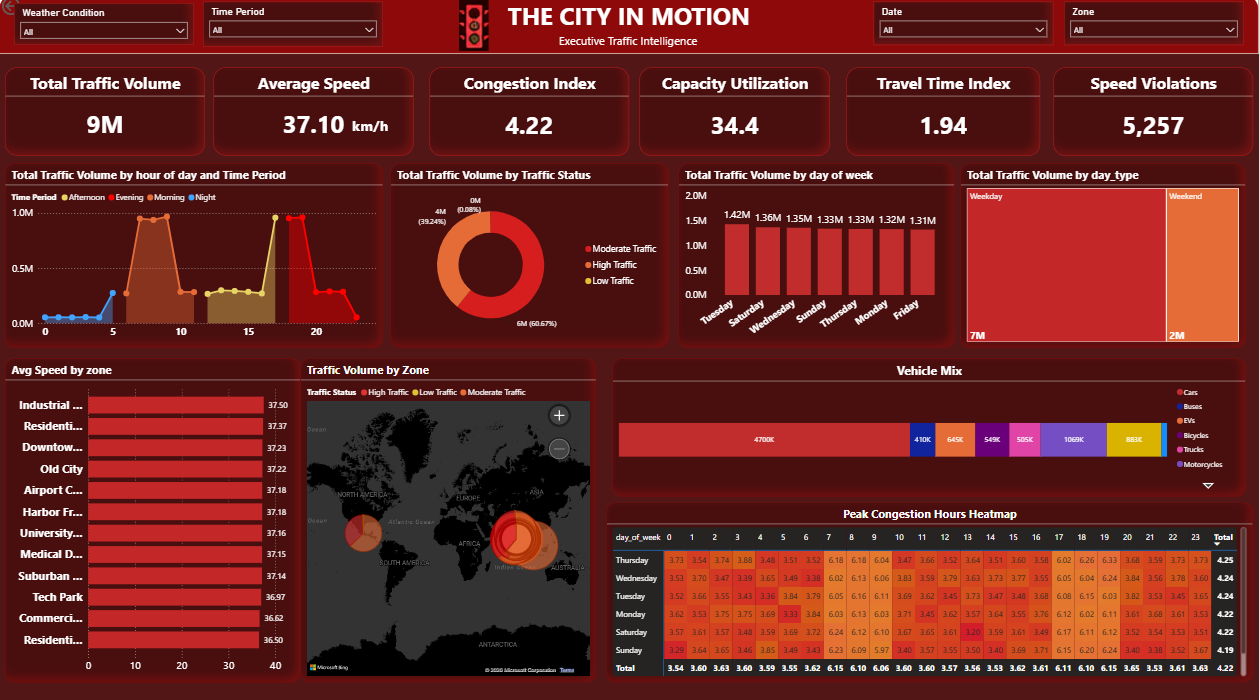

What the dashboard file says about the page in this screenshot:
{"tool":"powerbi","page":{"name":" City In Motion","canvas":[2100,1180],"ordinal":0},"visuals":[{"type":"card","title":"Total Traffic Volume","fields":{"Values":["smart_city_traffic_final.Total Traffic Volume"]},"box":[10,123.3,333.3,146.7],"z":0},{"type":"lineChart","title":"Total Traffic Volume by hour of day and Time Period","fields":{"Category":["smart_city_traffic_final.hour_of_day"],"Series":["smart_city_traffic_final.Time Period"],"Y":["smart_city_traffic_final.Total Traffic Volume"]},"box":[10,282.5,630,307.5],"z":1000},{"type":"donutChart","fields":{"Category":["smart_city_traffic_final.Traffic Status"],"Y":["smart_city_traffic_final.Total Traffic Volume"]},"box":[653.3,283.3,463.3,306.7],"z":2000},{"type":"shape","box":[0,0,2100,100],"z":3000},{"type":"map","title":"Traffic Volume by Zone","fields":{"Series":["smart_city_traffic_final.Traffic Status"],"Size":["smart_city_traffic_final.Total Traffic Volume"],"Category":["smart_city_traffic_final.area_name"]},"box":[502.5,607.5,492.5,540],"z":4000},{"type":"actionButton","box":[0,0,100,40],"z":5000},{"type":"clusteredColumnChart","title":"Total Traffic Volume by day of week","fields":{"Category":["smart_city_traffic_final.day_of_week"],"Y":["smart_city_traffic_final.Total Traffic Volume"]},"box":[1132.5,282.5,460,307.5],"z":6000},{"type":"pivotTable","title":"Peak Congestion Hours Heatmap ","fields":{"Columns":["smart_city_traffic_final.hour_of_day"],"Values":["smart_city_traffic_final.Congestion Index"],"Rows":["smart_city_traffic_final.day_of_week"]},"box":[1012.5,847.5,1077.5,300],"z":7000},{"type":"treemap","fields":{"Group":["smart_city_traffic_final.day_type"],"Values":["smart_city_traffic_final.Total Traffic Volume"]},"box":[1602.5,282.5,475,307.5],"z":8000},{"type":"clusteredBarChart","fields":{"Y":["smart_city_traffic_final.Avg Speed"],"Category":["smart_city_traffic_final.zone"]},"box":[10,607.5,492.5,540],"z":9000},{"type":"barChart","title":"Vehicle Mix","fields":{"Y":["smart_city_traffic_final.Cars","smart_city_traffic_final.Buses","smart_city_traffic_final.EV Count","smart_city_traffic_final.Bicycles","smart_city_traffic_final.Trucks","smart_city_traffic_final.Motorcycles","smart_city_traffic_final.Auto Rickshaws","smart_city_traffic_final.Ambulance"]},"box":[1022.5,607.5,1055,230],"z":10000},{"type":"card","title":"Congestion Index","fields":{"Values":["smart_city_traffic_final.Congestion Index"]},"box":[717.5,122.5,332.5,147.5],"z":11000},{"type":"card","title":"Capacity Utilization","fields":{"Values":["smart_city_traffic_final.Capacity Utilization"]},"box":[1067.5,122.5,317.5,147.5],"z":12000},{"type":"card","title":"Travel Time  Index","fields":{"Values":["smart_city_traffic_final.Travel Time Index"]},"box":[1412.5,122.5,322.5,147.5],"z":13000},{"type":"card","title":"Speed Violations","fields":{"Values":["smart_city_traffic_final.Speed Violations"]},"box":[1757.5,122.5,332.5,147.5],"z":14000},{"type":"card","title":"Average Speed","fields":{"Values":["smart_city_traffic_final.Avg Speed"]},"box":[356.7,123.3,333.3,146.7],"z":15000},{"type":"textbox","box":[565,197.5,107.5,67.5],"z":16000},{"type":"slicer","fields":{"Values":["smart_city_traffic_final.date"]},"box":[1457.5,12.5,300,72.5],"z":17000},{"type":"slicer","fields":{"Values":["smart_city_traffic_final.zone"]},"box":[1775,12.5,300,72.5],"z":18000},{"type":"slicer","fields":{"Values":["smart_city_traffic_final.weather_condition"]},"box":[25,15,300,70],"z":19000},{"type":"slicer","fields":{"Values":["smart_city_traffic_final.Time Period"]},"box":[340,12.5,300,75],"z":20000},{"type":"textbox","box":[885,60,327.5,40],"z":21000},{"type":"image","box":[750,7.5,82.5,87.5],"z":22000}]}

Visuals, with their boxes in screenshot pixels (x1, y1, x2, y2), scaled from the page's 2100x1180 canvas onto the 1260x700 screenshot:
"Total Traffic Volume" card: [6, 73, 206, 160]
"Total Traffic Volume by hour of day and Time Period" lineChart: [6, 168, 384, 350]
donutChart - smart_city_traffic_final.Traffic Status x smart_city_traffic_final.Total Traffic Volume: [392, 168, 670, 350]
shape: [0, 0, 1259, 59]
"Traffic Volume by Zone" map: [302, 360, 597, 681]
actionButton: [0, 0, 60, 24]
"Total Traffic Volume by day of week" clusteredColumnChart: [680, 168, 956, 350]
"Peak Congestion Hours Heatmap " pivotTable: [608, 503, 1254, 681]
treemap - smart_city_traffic_final.day_type x smart_city_traffic_final.Total Traffic Volume: [962, 168, 1246, 350]
clusteredBarChart - smart_city_traffic_final.Avg Speed x smart_city_traffic_final.zone: [6, 360, 302, 681]
"Vehicle Mix" barChart: [614, 360, 1246, 497]
"Congestion Index" card: [430, 73, 630, 160]
"Capacity Utilization" card: [640, 73, 831, 160]
"Travel Time  Index" card: [848, 73, 1041, 160]
"Speed Violations" card: [1054, 73, 1254, 160]
"Average Speed" card: [214, 73, 414, 160]
textbox: [339, 117, 404, 157]
slicer - smart_city_traffic_final.date: [874, 7, 1054, 50]
slicer - smart_city_traffic_final.zone: [1065, 7, 1245, 50]
slicer - smart_city_traffic_final.weather_condition: [15, 9, 195, 50]
slicer - smart_city_traffic_final.Time Period: [204, 7, 384, 52]
textbox: [531, 36, 728, 59]
image: [450, 4, 500, 56]
